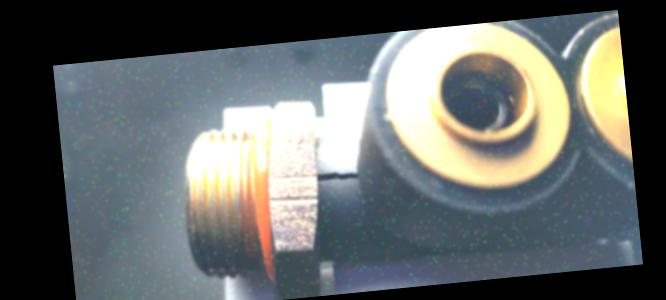craze: (315, 166, 360, 185)
